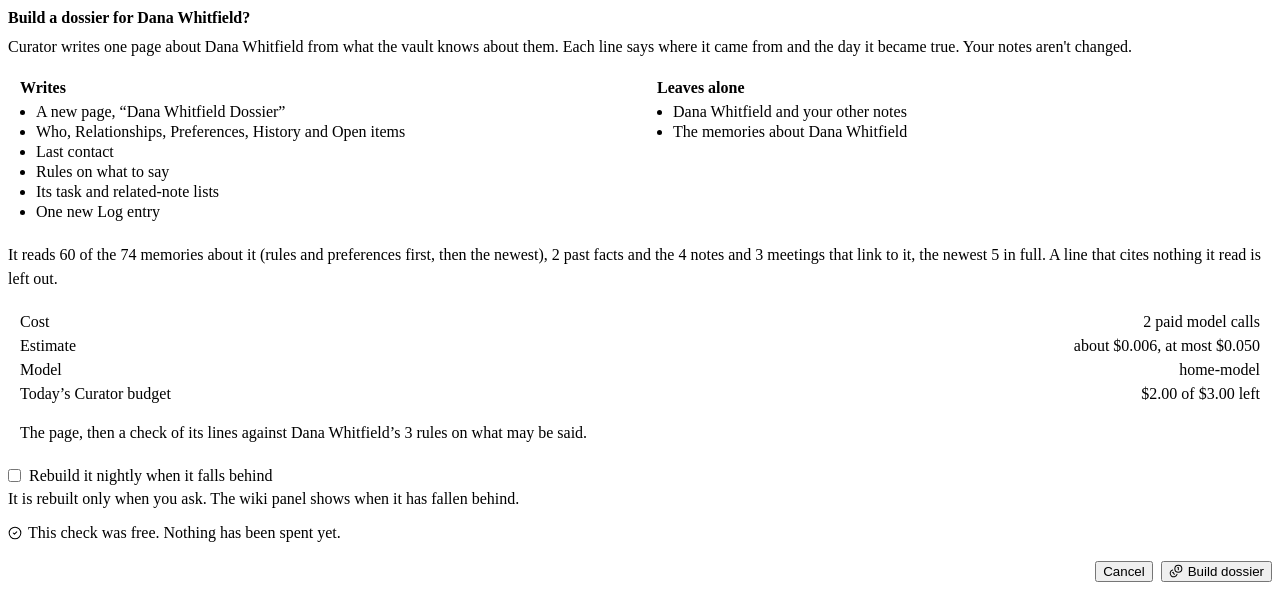
Test: sets nightly rebuilds as part of the build, only when the choice differs from the note's
This screenshot has width=1280, height=599.
Later steps or results of the test are not shown.
Click the checkbox labelled "Rebuild it nightly when it falls behind" at {"x": 14, "y": 476}, box [8,469,21,482]
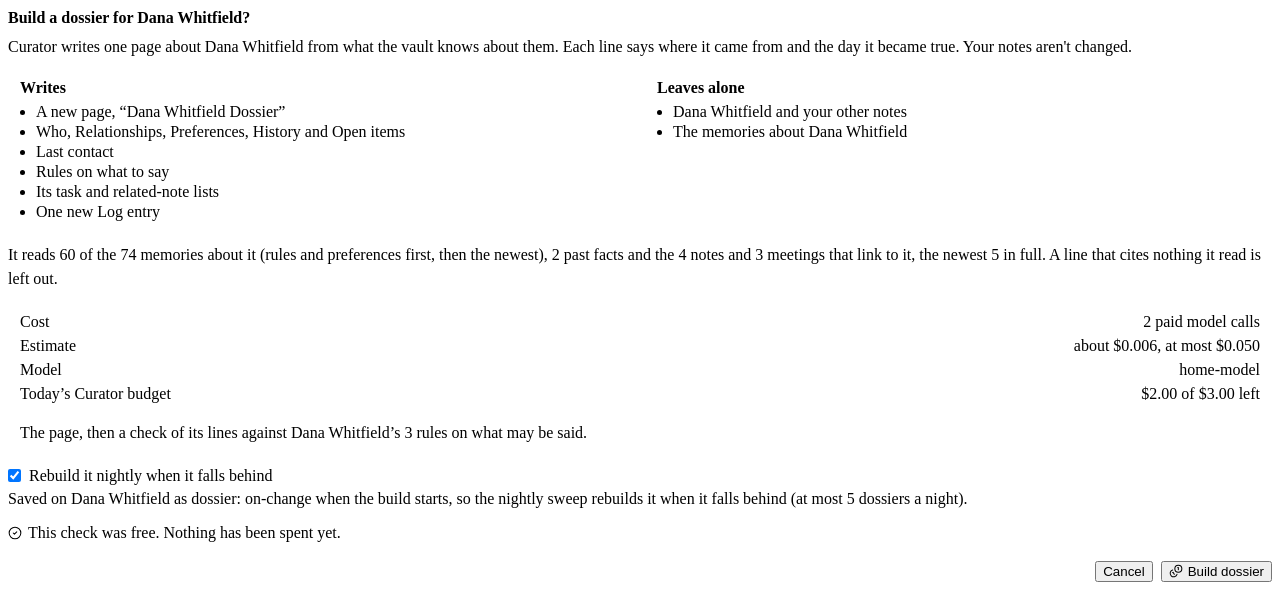
Check: the text "Saved on Dana Whitfield as dossier: on-change when the build starts" is shown, box [8,490,968,507]
Click the button "Build dossier" at {"x": 1216, "y": 571}, box [1161,561,1272,582]
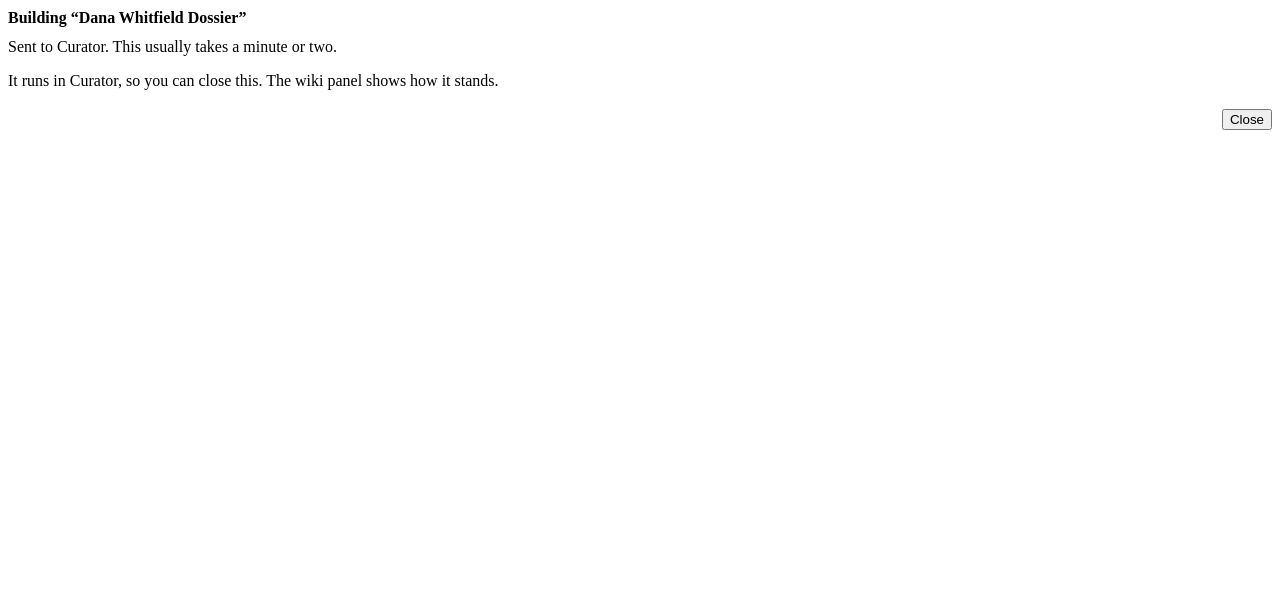
Check: the text "Sent to Curator. This usually takes a minute or two." is shown, box [8,38,337,55]
